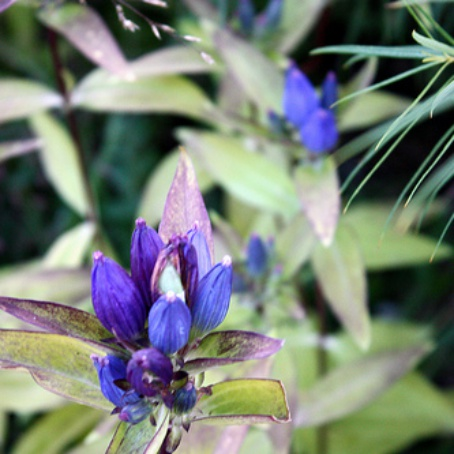flowers: (1, 54, 417, 454)
